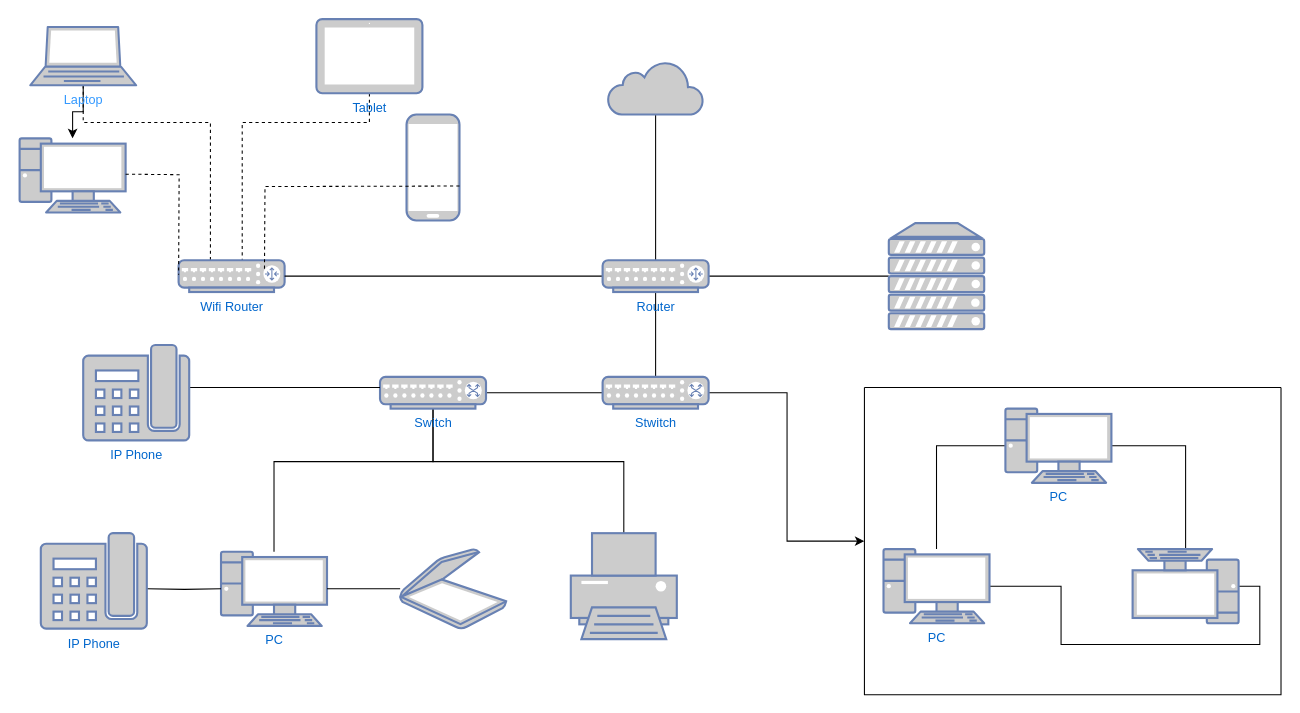
Some shapes in this 1300 by 713 pixel diagram are drawn without their labels. The centre of each missing label's shape, as x and y in pixels:
Desktop PC: the point at 72,175
Internet: the point at 655,87
Phone: the point at 432,167
Printer: the point at 623,586
Scanner: the point at 453,588
Server: the point at 936,276
